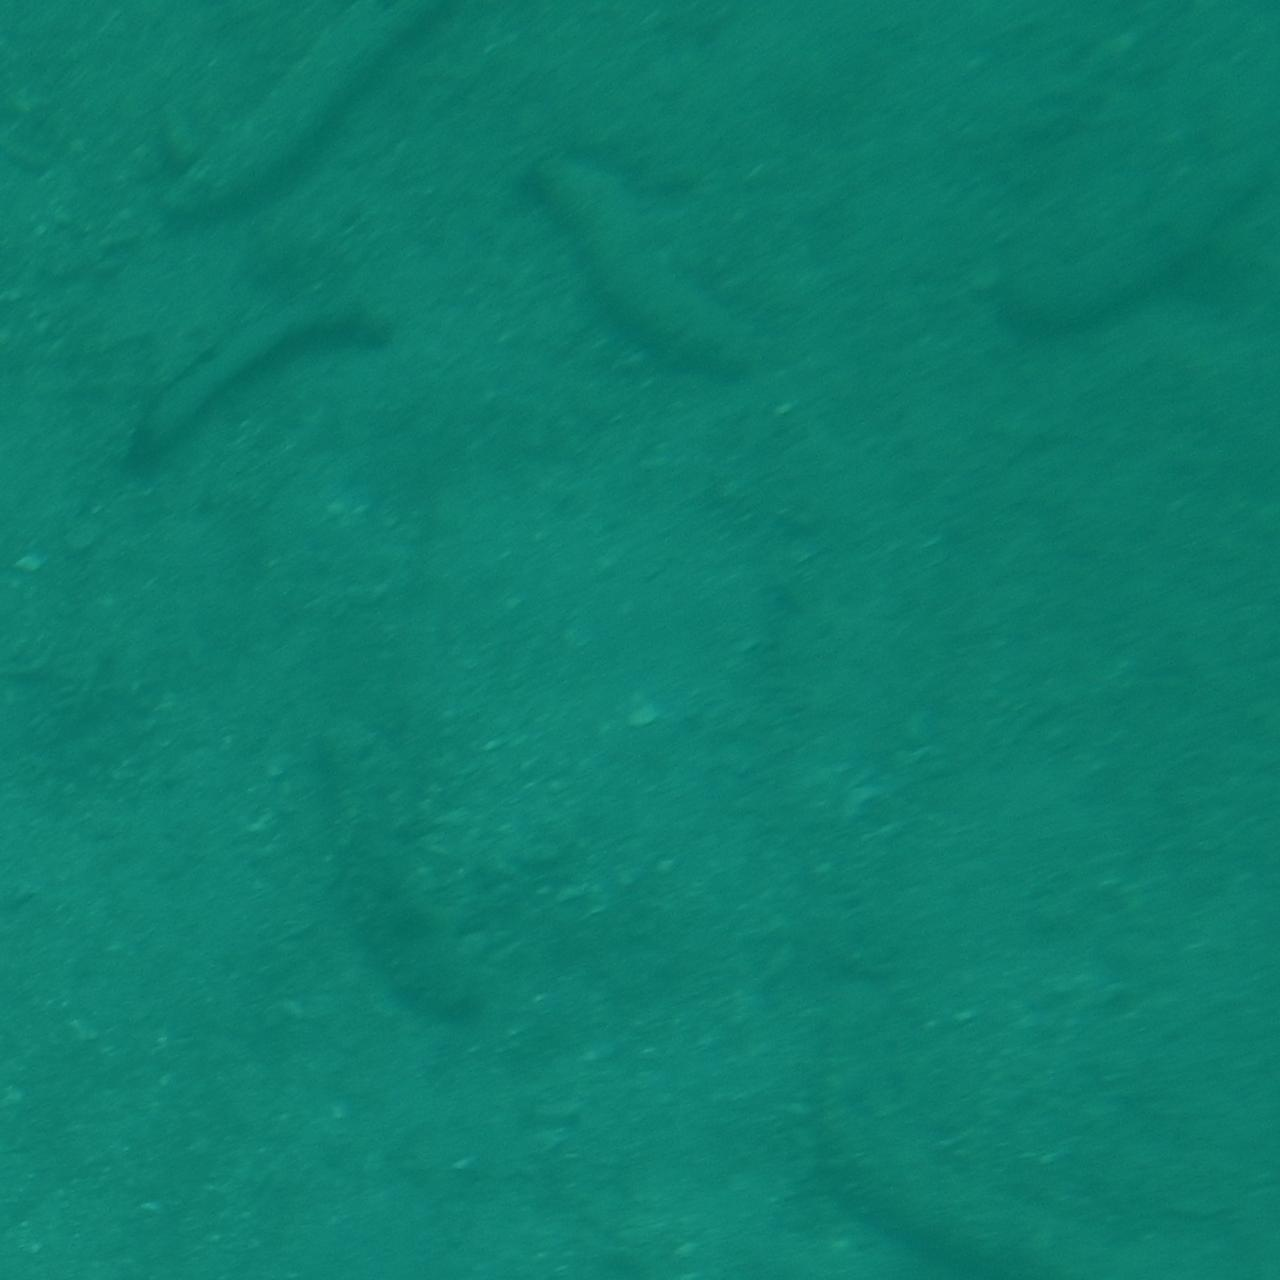Holothuria tubulosa: (829, 1028, 1164, 1280), (280, 694, 492, 1062), (161, 0, 490, 236), (536, 143, 767, 375), (122, 299, 424, 475), (996, 141, 1280, 326)
